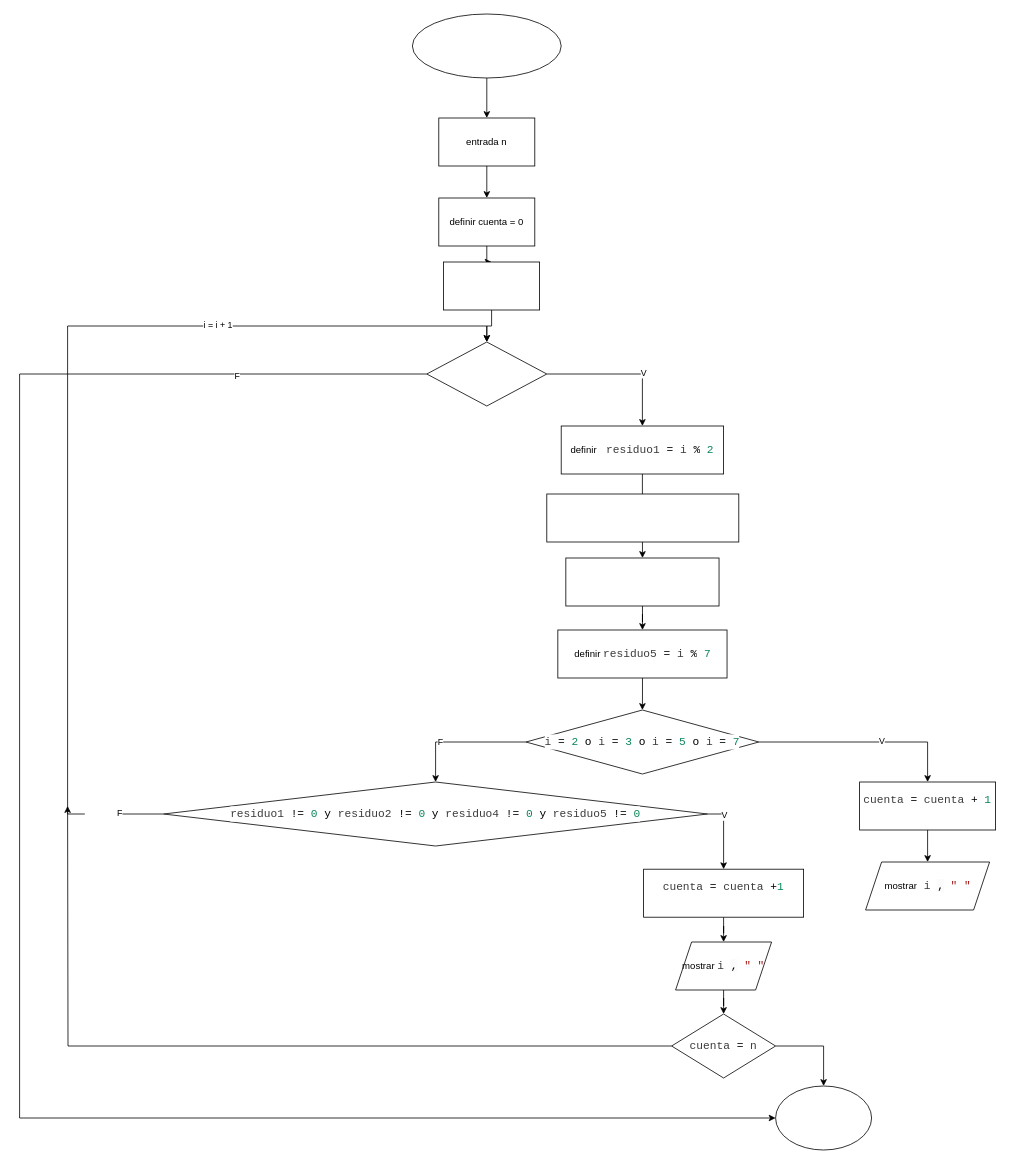
Some shapes in this 1010 by 1164 pixel diagram are drawn without their labels. Each missing label, with the centre of its shape:
Algoritmo Practico 2 ejer 17: the point at 486,45
cuenta < n: the point at 486,373
definir i = 2: the point at 491,285
definir residuo2 = i % 3: the point at 642,517
definir residuo4 = i % 5: the point at 642,581
FinAlgoritmo: the point at 823,1117
